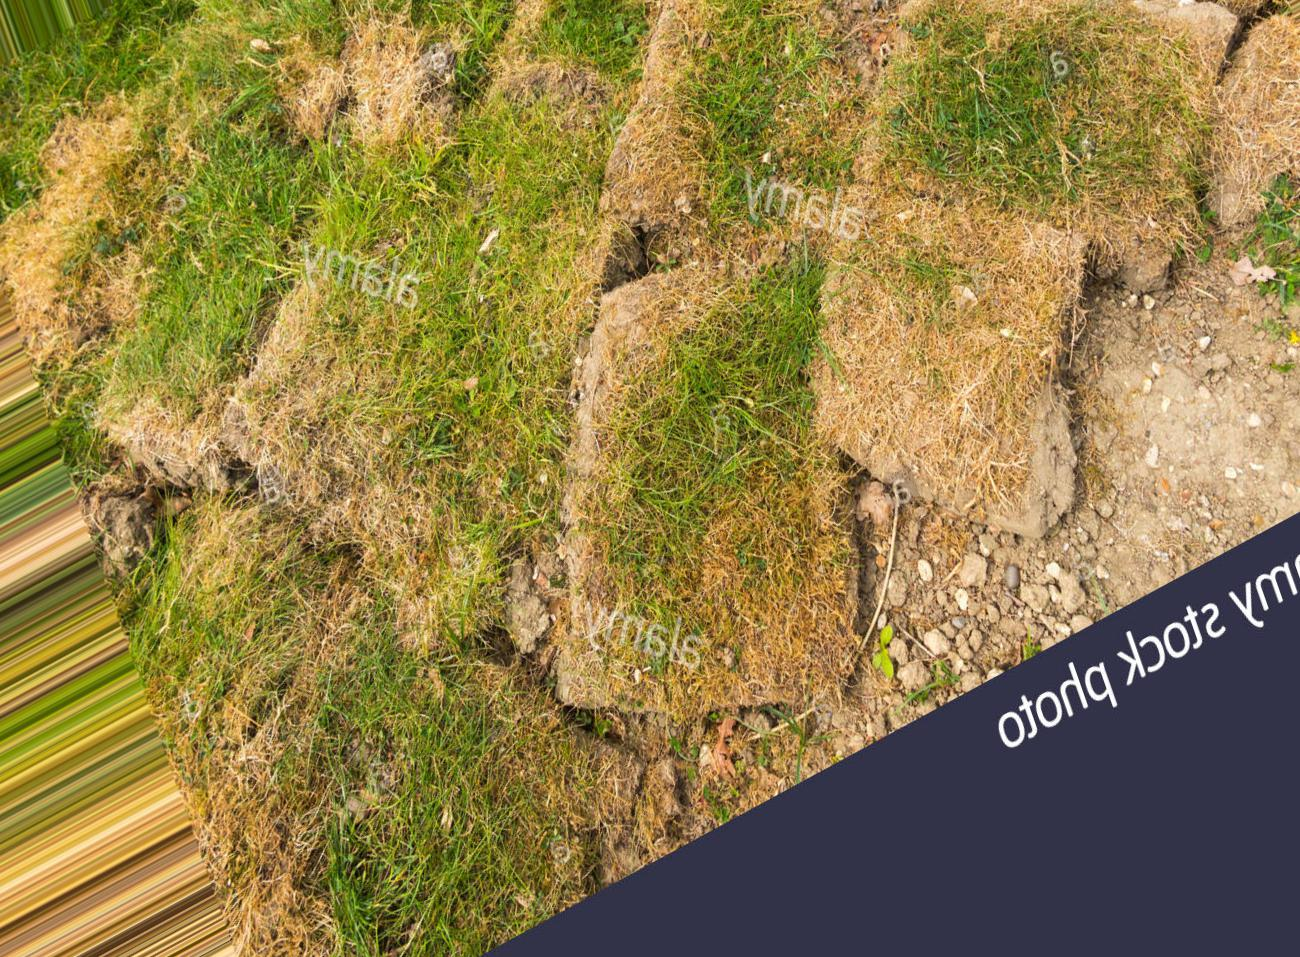patch: (543, 95, 757, 397), (846, 256, 1049, 506), (1117, 54, 1291, 249), (1091, 310, 1233, 509), (18, 120, 139, 350), (278, 24, 486, 153), (225, 340, 349, 461)
